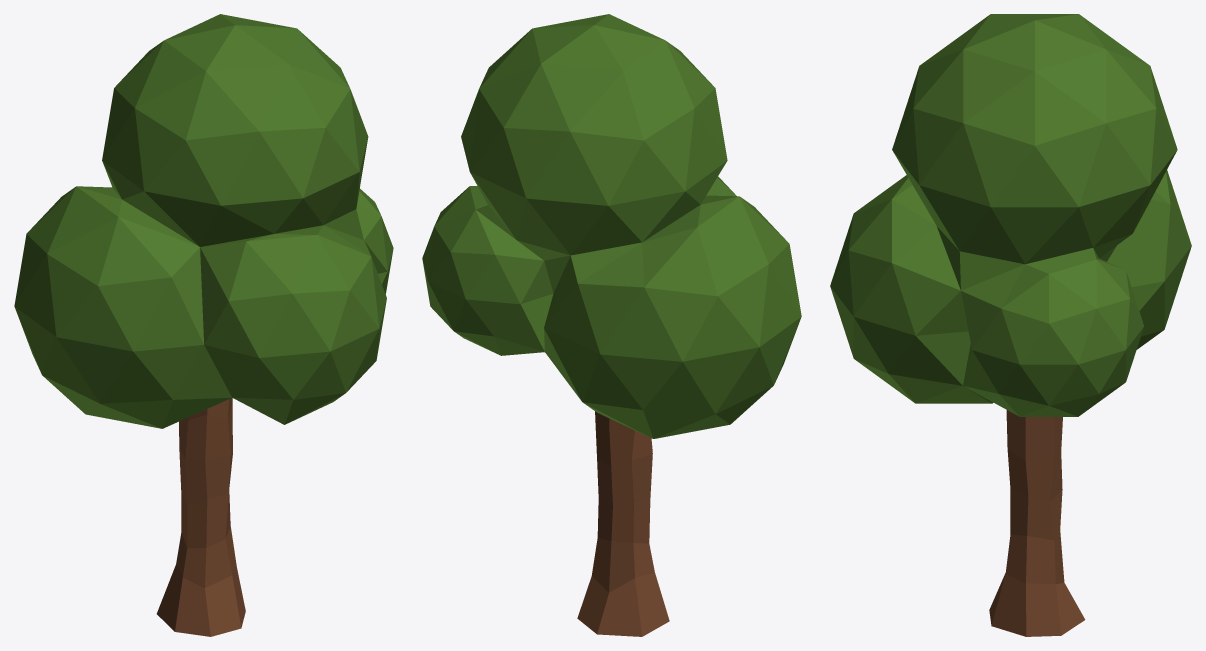
The model's file is Tree2.obj.
3 renders of one model, left to right at view 1: azimuth 30°, elevation 25°; view 2: azimuth 150°, elevation 25°; view 3: azimuth 270°, elevation 25°, orthographic. The views are drawn at different scales.
Visible parts, largest first — view 1: drzewo.007; view 2: drzewo.007; view 3: drzewo.007.
Part boxes in pixels (x1,y1,x2,y2): drzewo.007: (14, 14, 393, 636); drzewo.007: (422, 14, 801, 636); drzewo.007: (830, 14, 1191, 636).
Bounding box in the file's own units: 4.38 × 7.11 × 3.8.
